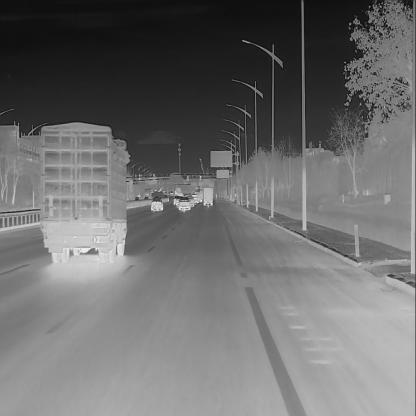car: (150, 197, 164, 211), (177, 196, 190, 210), (186, 195, 194, 208), (175, 195, 184, 206), (190, 192, 198, 204), (172, 194, 178, 206), (168, 190, 173, 195), (134, 196, 139, 201), (143, 196, 149, 200), (162, 189, 166, 193), (153, 188, 157, 192), (157, 189, 160, 193)
truck: (38, 119, 130, 263), (202, 186, 213, 207), (194, 186, 203, 203), (144, 187, 152, 199), (174, 186, 181, 195)
